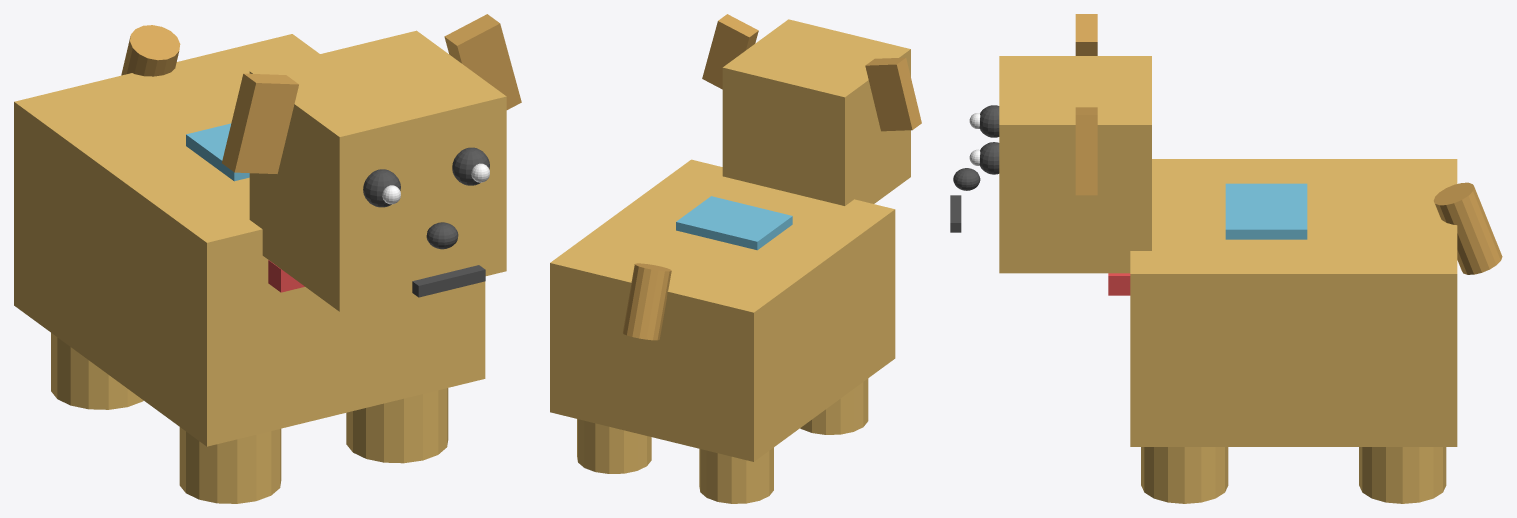
The model's file is pixel_corgi_dog.glb.
3 views of the same model, side by side, from view 1: azimuth 30°, elevation 25°; view 2: azimuth 150°, elevation 25°; view 3: azimuth 270°, elevation 25° (orthographic). The views are drawn at different scales.
Parts seen in each view (by area): view 1: body, head, leg_fl, leg_fr, ear_left, leg_bl, ear_right, tail, saddle, mouth, eye_left, eye_right (+2 smaller); view 2: body, head, saddle, leg_bl, leg_br, ear_left, tail, ear_right, leg_fl; view 3: body, head, saddle, leg_fr, leg_br, tail, ear_right, ear_left.
Boxes of the visible parts, <box> form: body: <box>14,34,485,446</box>; head: <box>249,30,506,311</box>; leg_fl: <box>179,427,281,503</box>; leg_fr: <box>346,388,448,463</box>; ear_left: <box>222,73,298,173</box>; leg_bl: <box>51,333,143,409</box>; ear_right: <box>444,14,521,109</box>; tail: <box>121,25,180,76</box>; saddle: <box>186,123,249,181</box>; mouth: <box>412,265,485,297</box>; eye_left: <box>363,169,400,207</box>; eye_right: <box>452,147,489,185</box>; body: <box>550,159,895,461</box>; head: <box>722,19,910,205</box>; saddle: <box>676,196,792,250</box>; leg_bl: <box>699,447,773,503</box>; leg_br: <box>577,419,651,473</box>; ear_left: <box>865,57,921,131</box>; tail: <box>623,263,671,340</box>; ear_right: <box>702,14,758,89</box>; leg_fl: <box>800,378,868,434</box>; body: <box>1130,159,1457,446</box>; head: <box>999,56,1151,273</box>; saddle: <box>1225,183,1307,239</box>; leg_fr: <box>1141,447,1228,503</box>; leg_br: <box>1359,447,1446,503</box>; tail: <box>1433,182,1502,274</box>; ear_right: <box>1075,107,1097,195</box>; ear_left: <box>1075,14,1097,55</box>.
Size of the model in its own units: 0.5161 by 0.7828 by 1.01.
